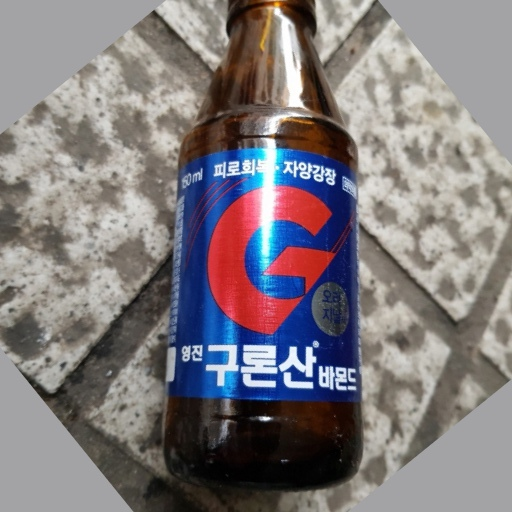Glass_3: (158, 1, 367, 489)
